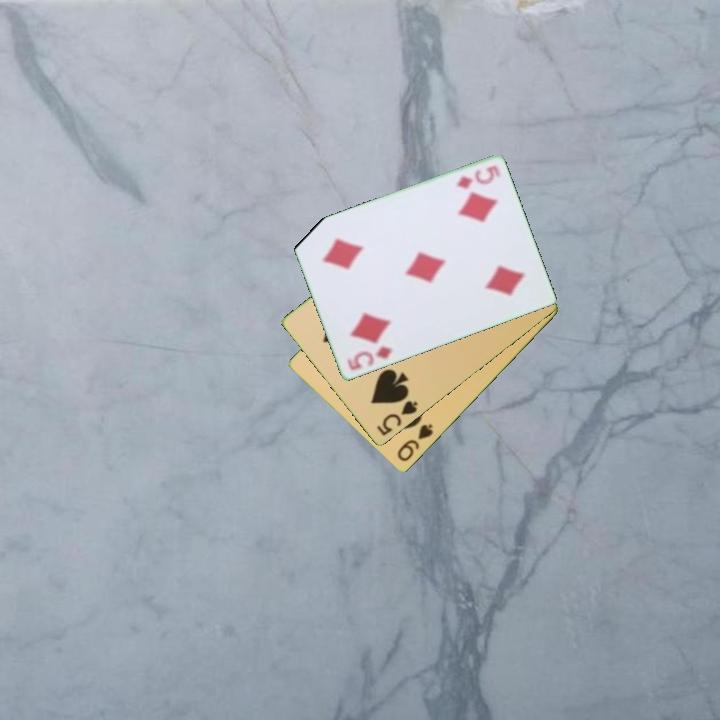5d: (343, 343, 395, 374), (454, 162, 502, 193)
5s: (373, 397, 421, 439)
9s: (393, 420, 436, 465)
